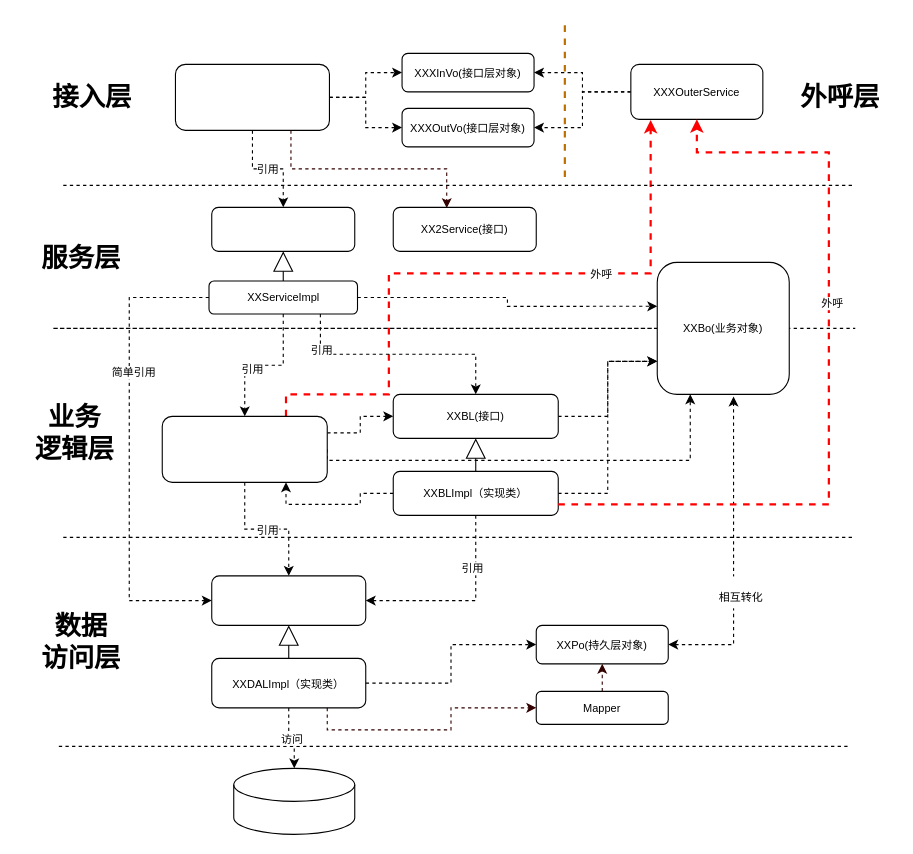
Some shapes in this 913 by 854 pixel diagram are drawn without their labels. Each missing label, with the centre of its shape:
"Database" goes at point 294,800.
"XXController" goes at point 251,96.
"XXManager" goes at point 244,448.
"XXService(接口)" goes at point 283,228.
"XXXDAL(接口)" goes at point 288,600.
